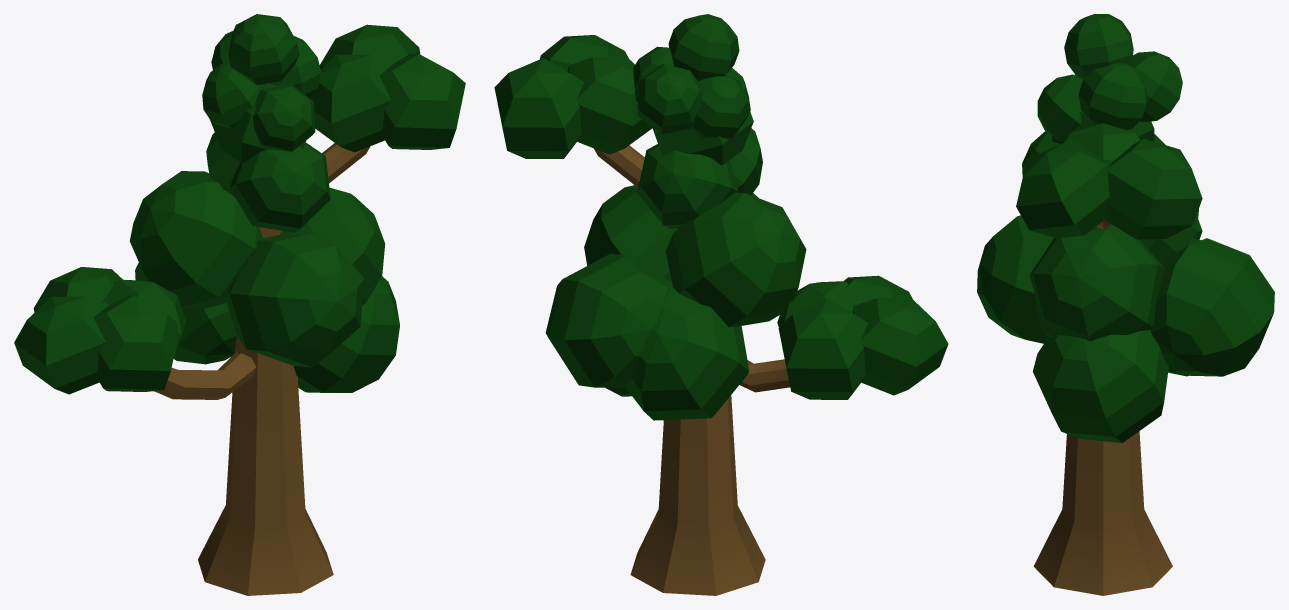
File: asset_BigTree_01.fbx
The picture shows the model from 3 angles, left to right: view 1: azimuth 30°, elevation 25°; view 2: azimuth 150°, elevation 25°; view 3: azimuth 270°, elevation 25°; orthographic projection.
Visible parts, largest first — view 1: Big_Tree_01; view 2: Big_Tree_01; view 3: Big_Tree_01.
Boxes of the visible parts, x1,y1,x2,y2 form: Big_Tree_01: [14, 14, 465, 595]; Big_Tree_01: [494, 14, 948, 595]; Big_Tree_01: [977, 14, 1274, 595].
Size of the model in its own units: 426 by 542 by 267.
